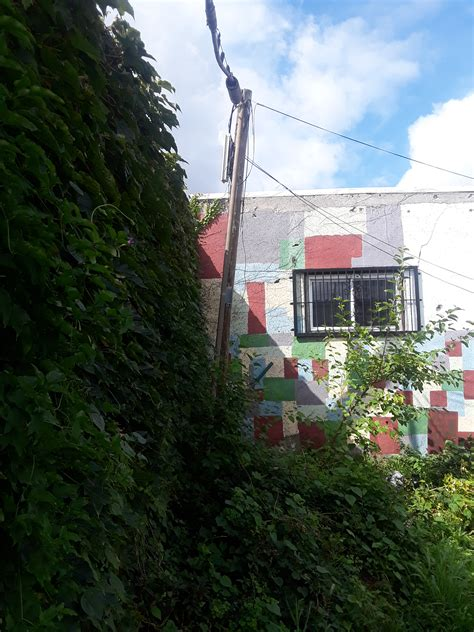pole: (200, 68, 274, 445)
